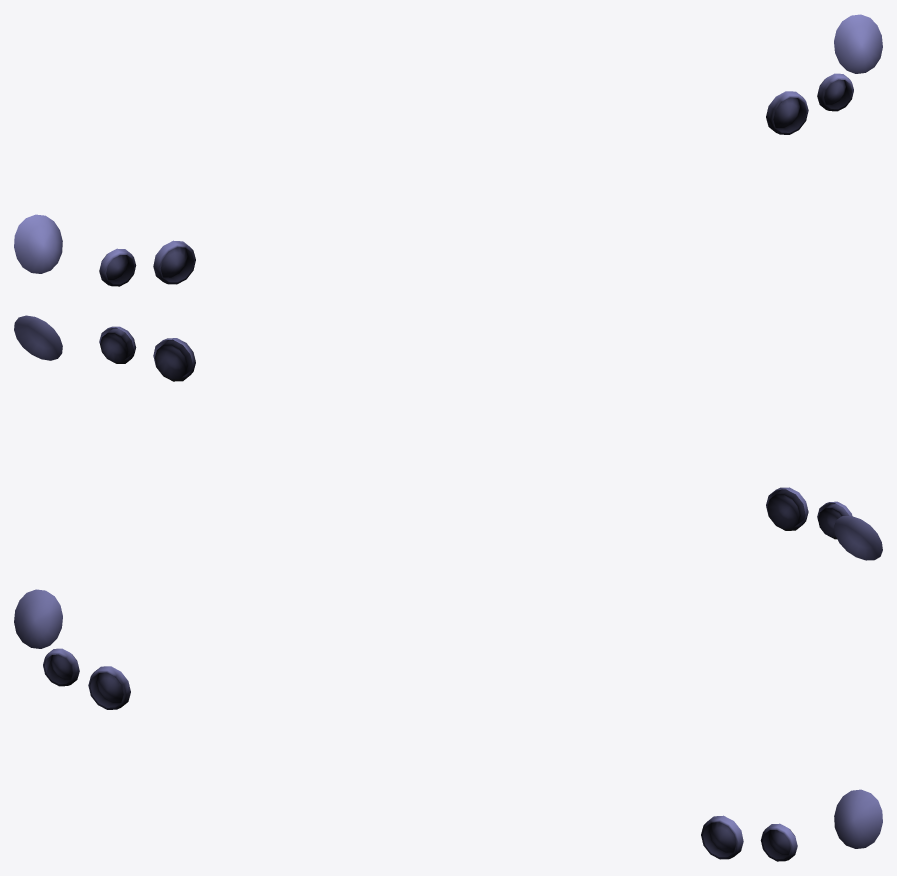
File: Zr1_Base_HeadLight_Detail.fbx
The picture shows the model from 3 angles, top to bottom: view 1: azimuth 30°, elevation 25°; view 2: azimuth 150°, elevation 25°; view 3: azimuth 330°, elevation 25°; orthographic projection.
Parts seen in each view (by area): view 1: Zr1_Base_HeadLight_Detail; view 2: Zr1_Base_HeadLight_Detail; view 3: Zr1_Base_HeadLight_Detail.
Part boxes in pixels (box(x1,y1,x2,y2)): Zr1_Base_HeadLight_Detail: box(14, 14, 882, 286); Zr1_Base_HeadLight_Detail: box(14, 315, 882, 560); Zr1_Base_HeadLight_Detail: box(14, 589, 882, 861).
Bounding box in the file's own units: 161 × 11.78 × 13.01.
